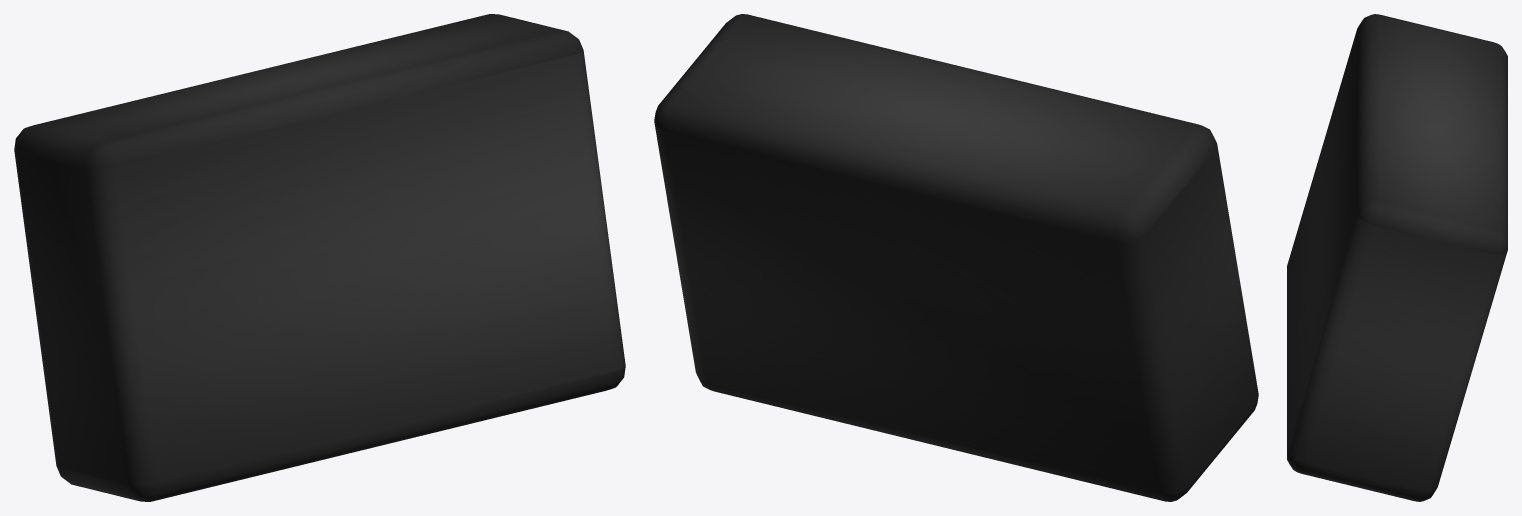
Rendered from indicadores.fbx.
3 views of the same model, side by side, from view 1: azimuth 30°, elevation 25°; view 2: azimuth 150°, elevation 25°; view 3: azimuth 270°, elevation 25° (orthographic). The views are drawn at different scales.
Parts seen in each view (by area): view 1: indicadores; view 2: indicadores; view 3: indicadores.
Part boxes in pixels (<box>): indicadores: <box>14,14,625,501</box>; indicadores: <box>654,14,1258,501</box>; indicadores: <box>1287,14,1507,501</box>.
Bounding box in the file's own units: 1.26 × 0.8725 × 0.5857.
